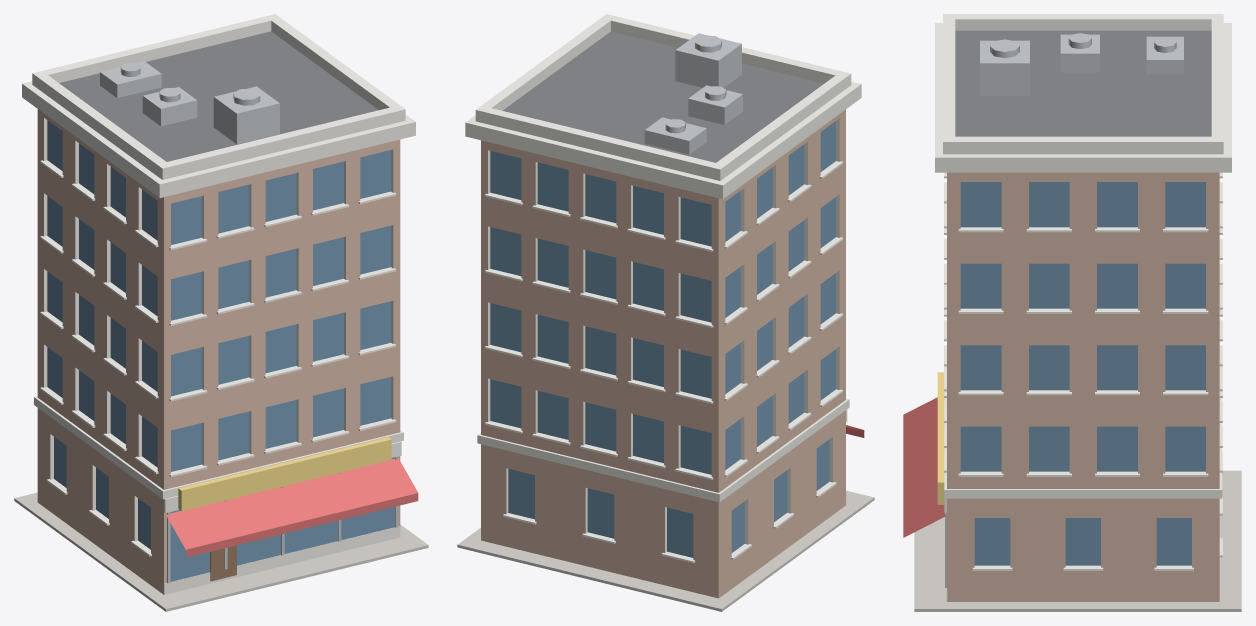
The picture shows the model from 3 angles, left to right: view 1: azimuth 30°, elevation 25°; view 2: azimuth 150°, elevation 25°; view 3: azimuth 270°, elevation 25°; orthographic projection. The views are drawn at different scales.
Parts seen in each view (by area): view 1: c_2_1_b; view 2: c_2_1_b; view 3: c_2_1_b.
Part boxes in pixels (x1=…): c_2_1_b: x1=14, y1=14, x2=428, y2=611; c_2_1_b: x1=457, y1=14, x2=874, y2=611; c_2_1_b: x1=903, y1=14, x2=1241, y2=611.
Size of the model in its own units: 12 by 19.94 by 12.4.
